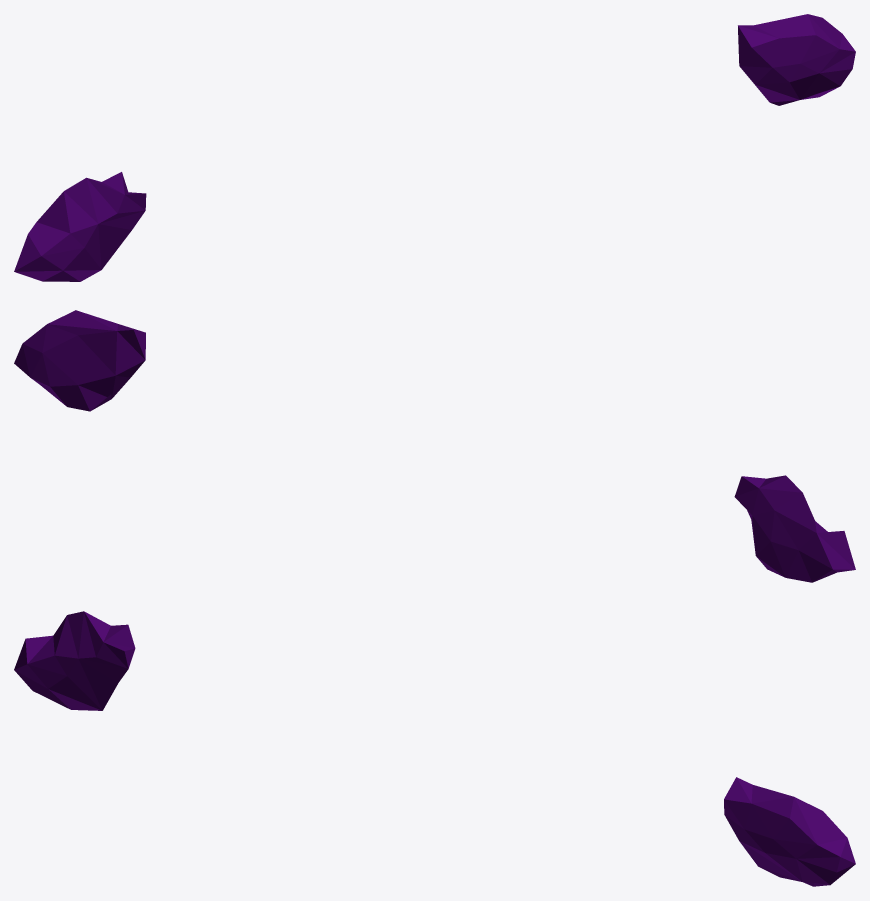
File: 178-29a-area 29a of cortex-('0.3451', '0.0000', '0.4980').obj
The picture shows the model from 3 angles, top to bottom: view 1: azimuth 30°, elevation 25°; view 2: azimuth 150°, elevation 25°; view 3: azimuth 330°, elevation 25°; orthographic projection.
Bounding box in the file's own units: 114 × 13.24 × 4.8.
